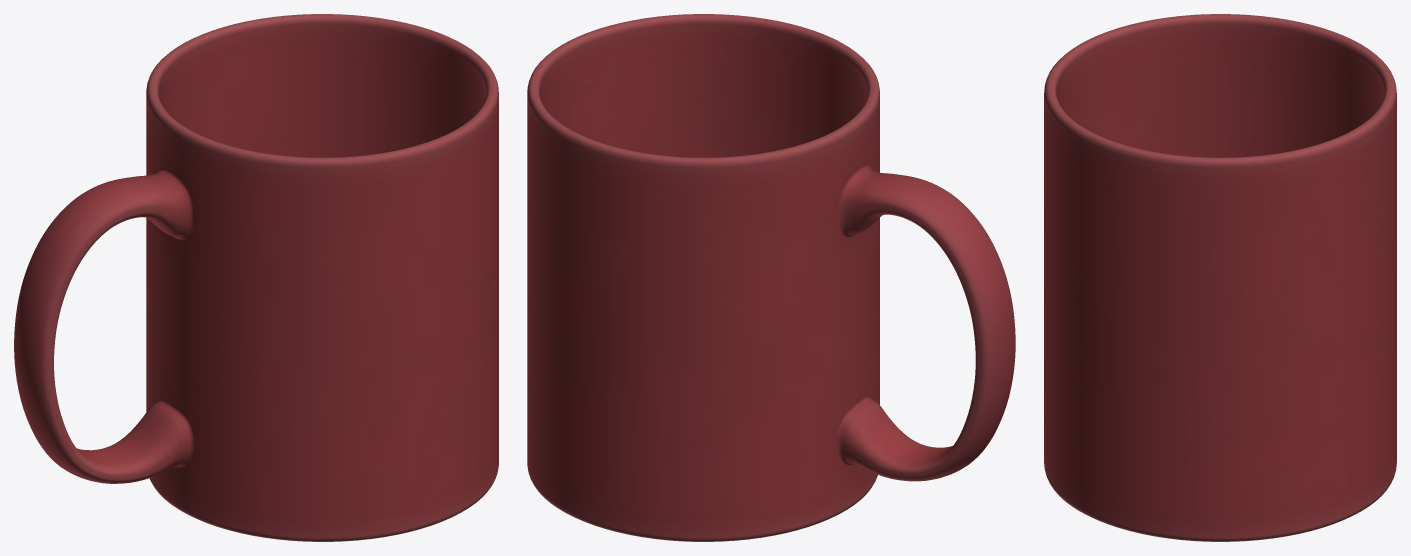
Rendered from dishware_mug_coffee_a01.glb.
3 renders of one model, left to right at view 1: azimuth 30°, elevation 25°; view 2: azimuth 150°, elevation 25°; view 3: azimuth 270°, elevation 25°, orthographic.
Visible parts, largest first — view 1: root; view 2: root; view 3: root.
Part boxes in pixels (x1,y1,x2,y2): root: (14, 14, 498, 541); root: (527, 14, 1015, 541); root: (1044, 14, 1396, 541).
Size of the model in its own units: 0.1208 by 0.0972 by 0.081.
1 material, 1 textured.
